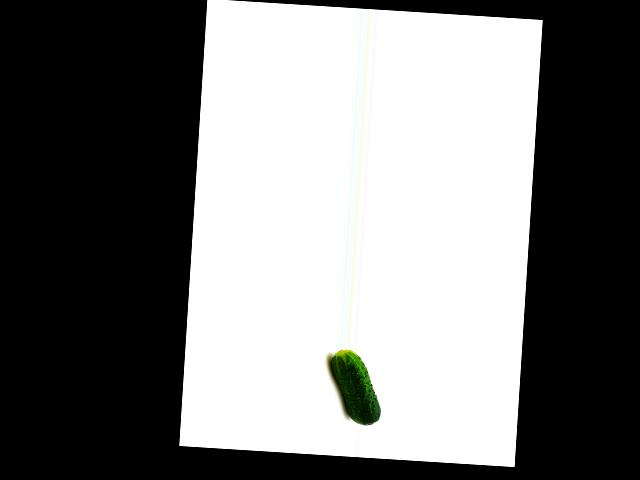cucumber: (327, 348, 384, 426)
